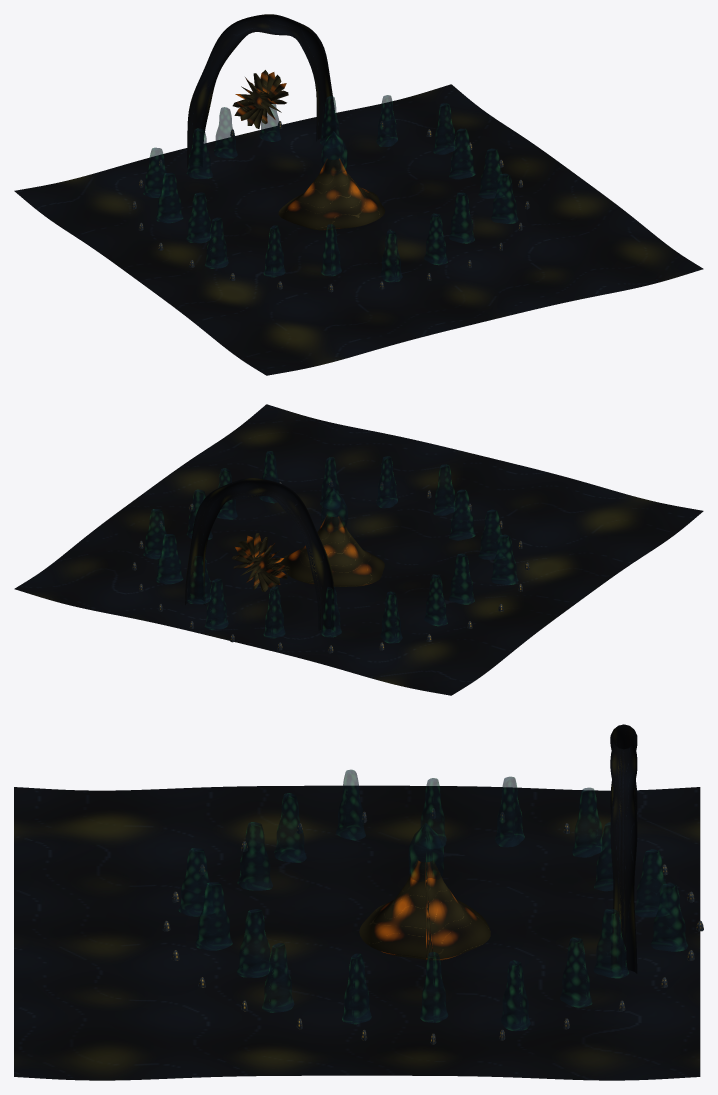
File: passport-status-room-v1.glb
3 views of the same model, one above another, from view 1: azimuth 30°, elevation 25°; view 2: azimuth 150°, elevation 25°; view 3: azimuth 270°, elevation 25° (orthographic). The views are drawn at different scales.
Parts seen in each view (by area): view 1: passport-status-floor, passport-privacy-vault, passport-identity-plinth, privacy-vault-seal, status-pod-11, status-pod-3, status-pod-2, status-pod-12, status-pod-10, status-pod-1, status-pod-13, status-pod-4 (+10 smaller); view 2: passport-status-floor, passport-privacy-vault, passport-identity-plinth, privacy-vault-seal, status-pod-17, status-pod-9, status-pod-8, status-pod-18, status-pod-7, status-pod-10, passport-identity-core, status-pod-16 (+10 smaller); view 3: passport-status-floor, passport-identity-plinth, passport-privacy-vault, status-pod-15, status-pod-5, status-pod-14, status-pod-6, status-pod-4, status-pod-7, status-pod-16, passport-identity-core, status-pod-8 (+10 smaller).
Boxes of the visible parts, x1=… form: passport-status-floor: x1=14, y1=84, x2=703, y2=375; passport-privacy-vault: x1=187, y1=14, x2=336, y2=167; passport-identity-plinth: x1=278, y1=158, x2=385, y2=230; privacy-vault-seal: x1=232, y1=70, x2=288, y2=128; status-pod-11: x1=156, y1=173, x2=183, y2=223; status-pod-3: x1=491, y1=173, x2=518, y2=223; status-pod-2: x1=478, y1=148, x2=505, y2=198; status-pod-12: x1=143, y1=147, x2=170, y2=197; status-pod-10: x1=186, y1=192, x2=212, y2=243; status-pod-1: x1=449, y1=128, x2=475, y2=179; status-pod-13: x1=187, y1=128, x2=212, y2=178; status-pod-4: x1=449, y1=192, x2=474, y2=243; passport-status-floor: x1=14, y1=404, x2=703, y2=695; passport-privacy-vault: x1=185, y1=478, x2=334, y2=631; passport-identity-plinth: x1=280, y1=515, x2=384, y2=586; privacy-vault-seal: x1=231, y1=533, x2=289, y2=591; status-pod-17: x1=156, y1=534, x2=183, y2=584; status-pod-9: x1=491, y1=534, x2=518, y2=584; status-pod-8: x1=478, y1=509, x2=505, y2=559; status-pod-18: x1=143, y1=509, x2=170, y2=559; status-pod-7: x1=449, y1=489, x2=475, y2=540; status-pod-10: x1=449, y1=553, x2=474, y2=604; passport-identity-core: x1=321, y1=488, x2=347, y2=533; status-pod-16: x1=186, y1=556, x2=212, y2=604; passport-status-floor: x1=14, y1=785, x2=700, y2=1080; passport-identity-plinth: x1=359, y1=860, x2=490, y2=960; passport-privacy-vault: x1=610, y1=724, x2=637, y2=973; status-pod-15: x1=650, y1=883, x2=687, y2=951; status-pod-5: x1=195, y1=882, x2=232, y2=950; status-pod-14: x1=635, y1=849, x2=670, y2=917; status-pod-6: x1=178, y1=848, x2=215, y2=916; status-pod-4: x1=237, y1=909, x2=272, y2=977; status-pod-7: x1=237, y1=822, x2=272, y2=890; status-pod-16: x1=593, y1=909, x2=628, y2=978; passport-identity-core: x1=408, y1=823, x2=443, y2=881; status-pod-8: x1=274, y1=793, x2=306, y2=862.
Size of the model in its own units: 18 by 5.72 by 18.1.
4 materials, 4 textured.
